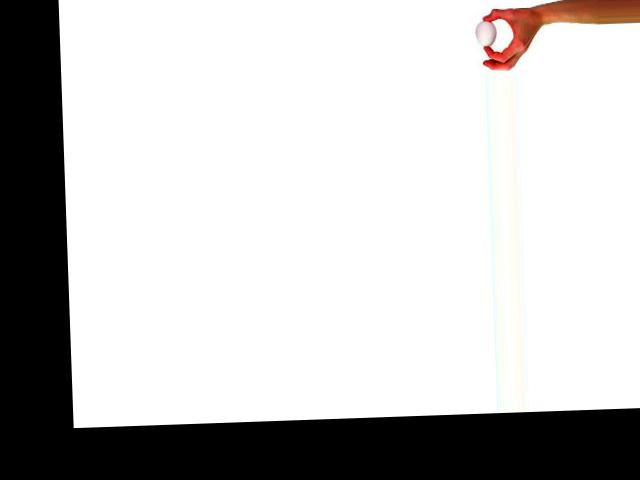egg: (475, 20, 497, 46)
